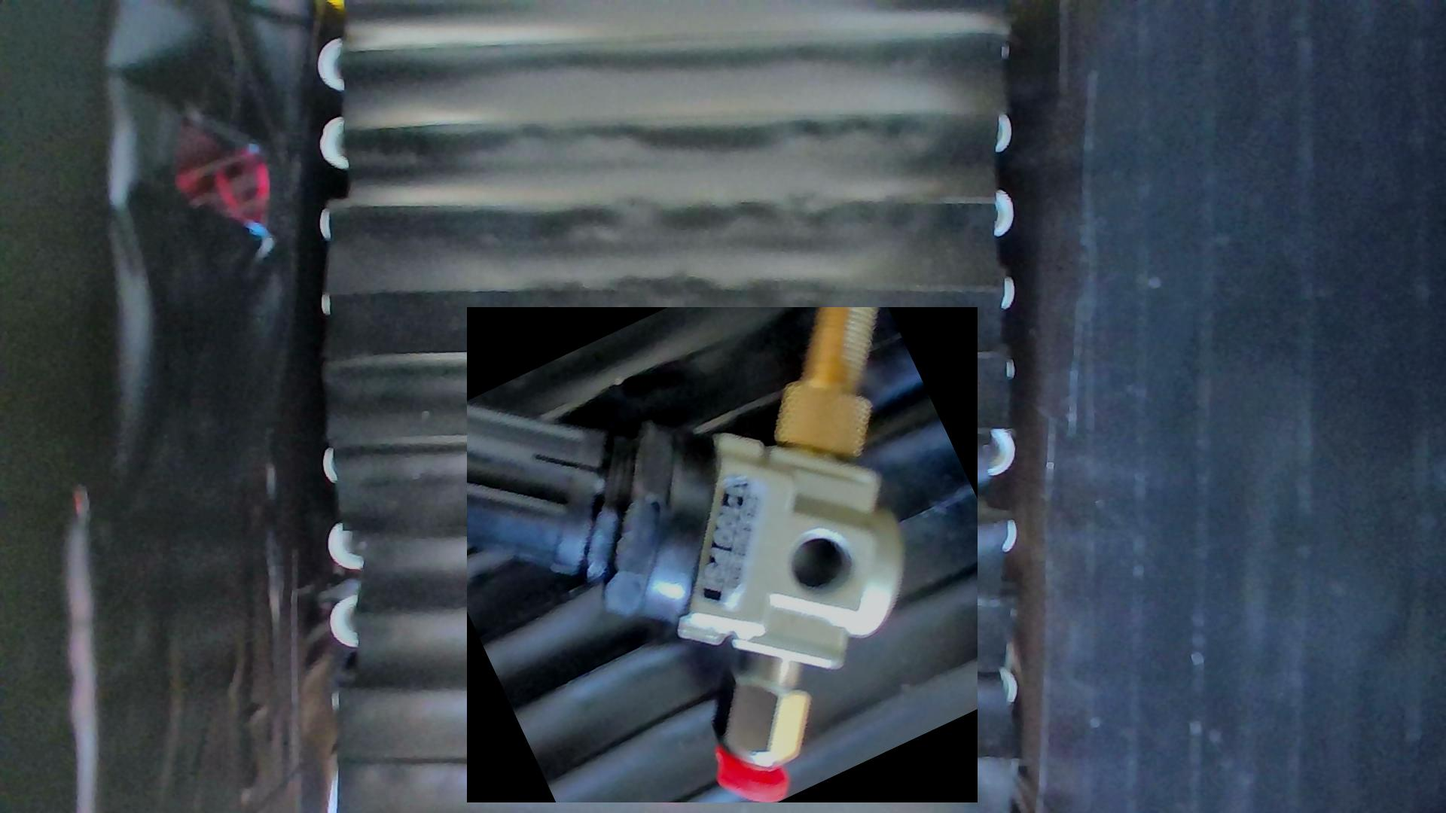regulator: (467, 307, 978, 803)
